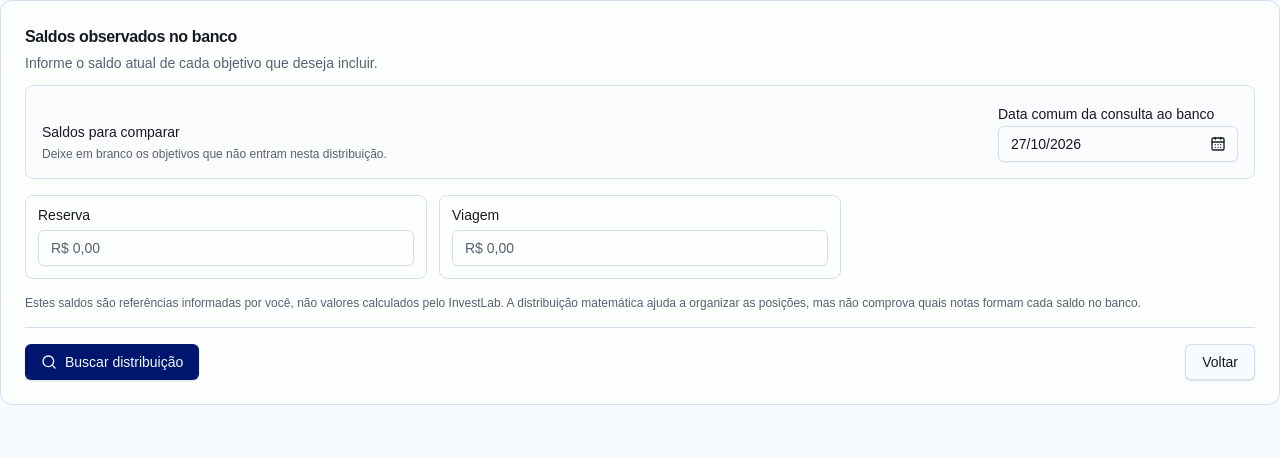
it: PortfolioObjectiveOrganizer › requires the common date
This screenshot has width=1280, height=458.
Type "10000" into the field labelled "Reserva".
click(226, 248); type("10000")  # box top-left (38, 230), bottom-right (414, 266)
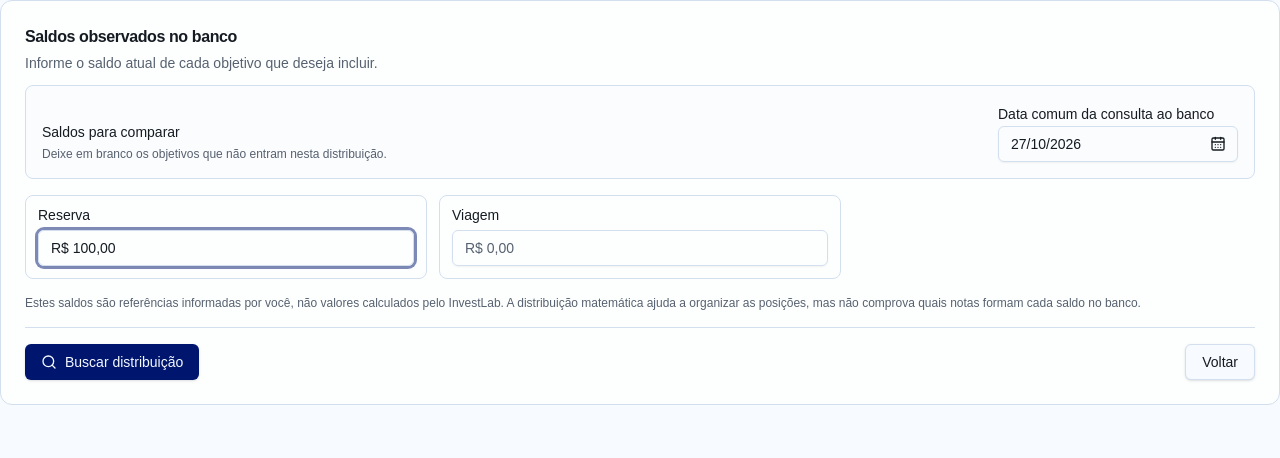
Clear the field labelled "Data comum da consulta ao banco" at (1118, 144), box top-left (998, 126), bottom-right (1238, 162)
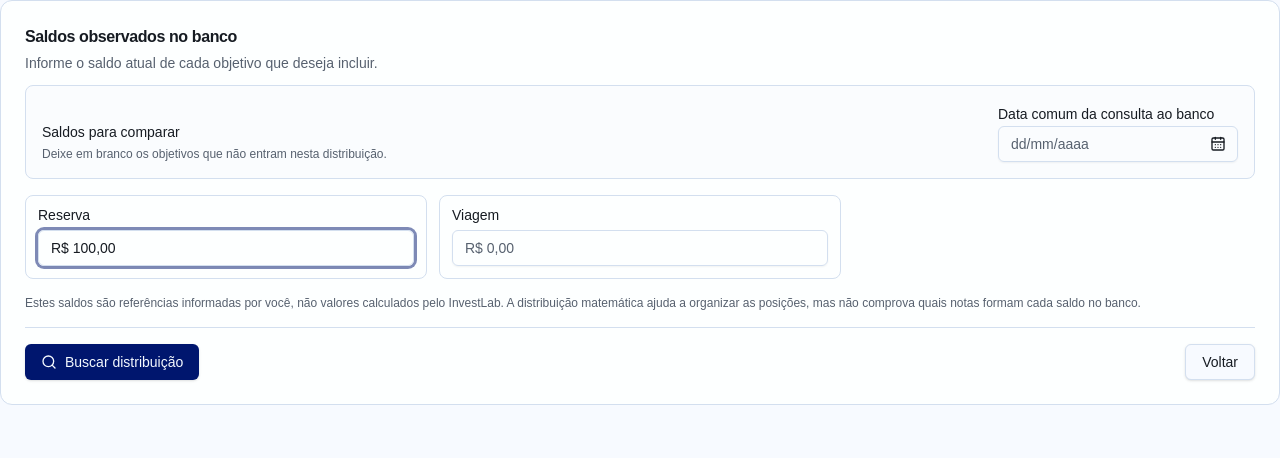
Click the button "Buscar distribuição".
click(112, 362)  # box top-left (25, 344), bottom-right (199, 380)
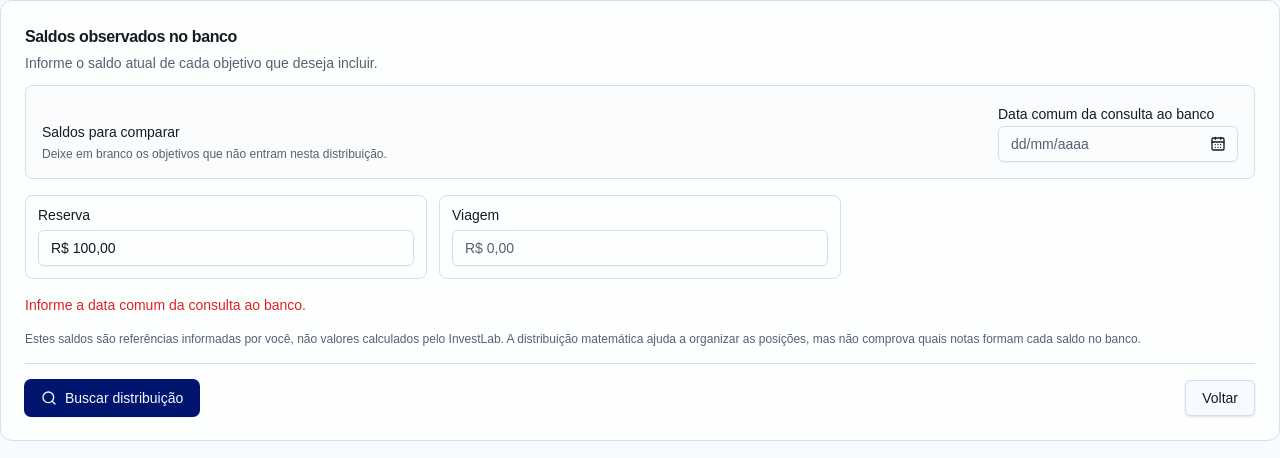
Check: the message reads "Informe a data comum da consulta ao banco.", box top-left (25, 297), bottom-right (306, 313)
